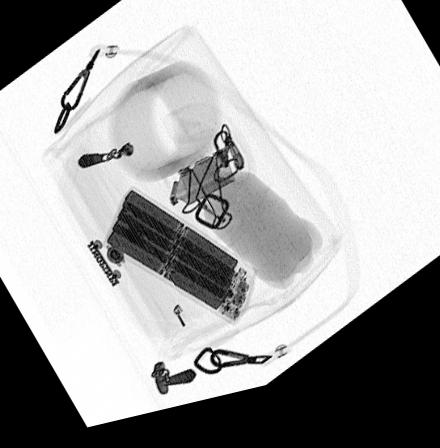Powerbank: (102, 193, 257, 338)
